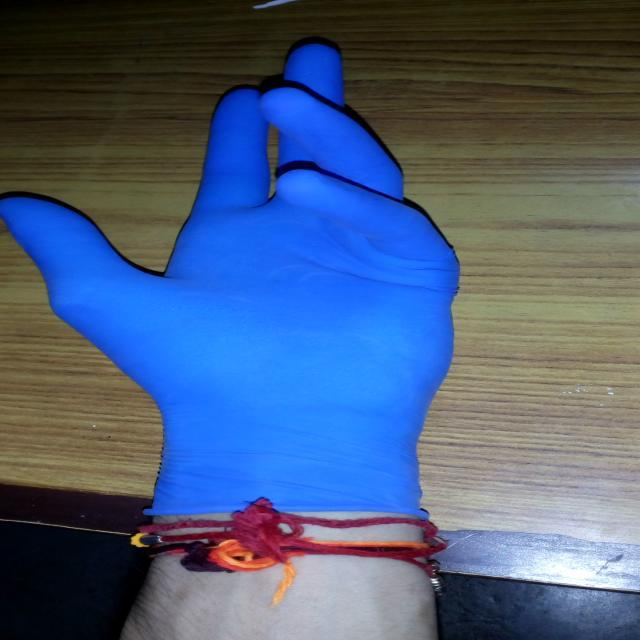glove_hand: (0, 35, 465, 529)
